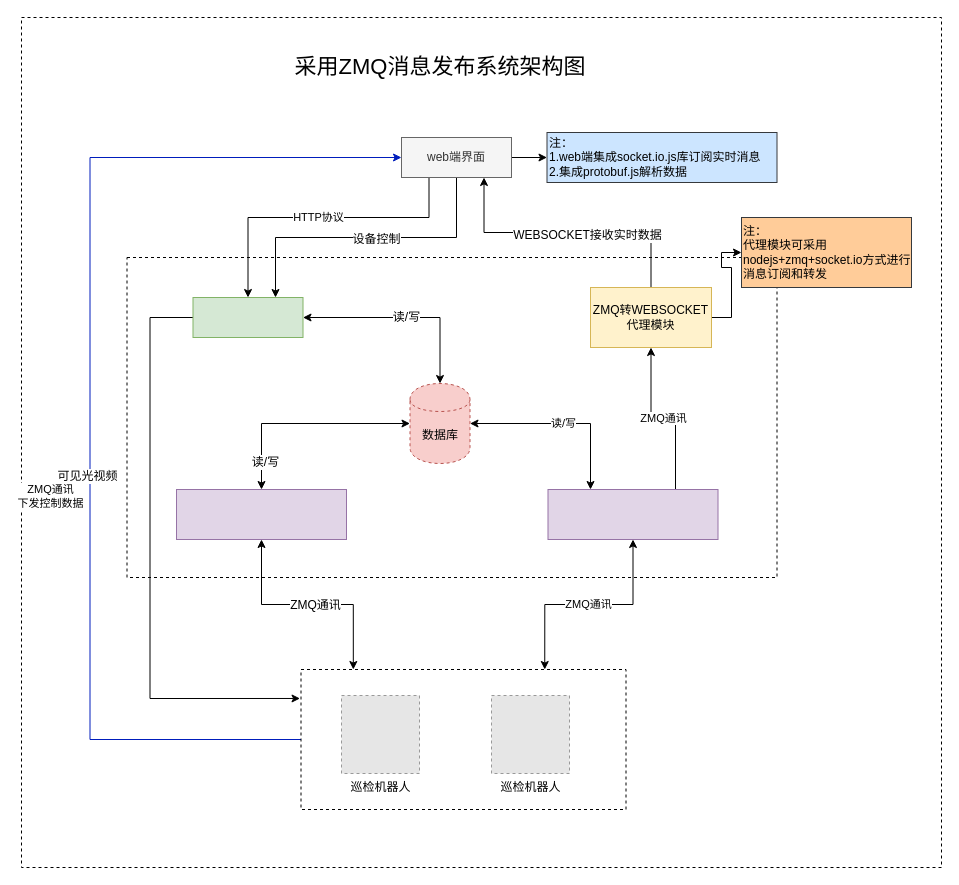
Image size: 959x885. Some labels were removed from this diagram. Grey dashed boxes stand in for pictures. The centre of each missing label's shape, as x and y in pixels:
"web端接口服务" belongs at (247,317).
"实时消息处理模块" belongs at (632,514).
"路径规划服务" belongs at (261,514).
